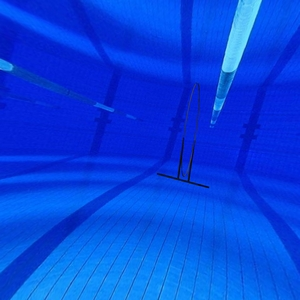circle: (157, 81, 212, 191)
